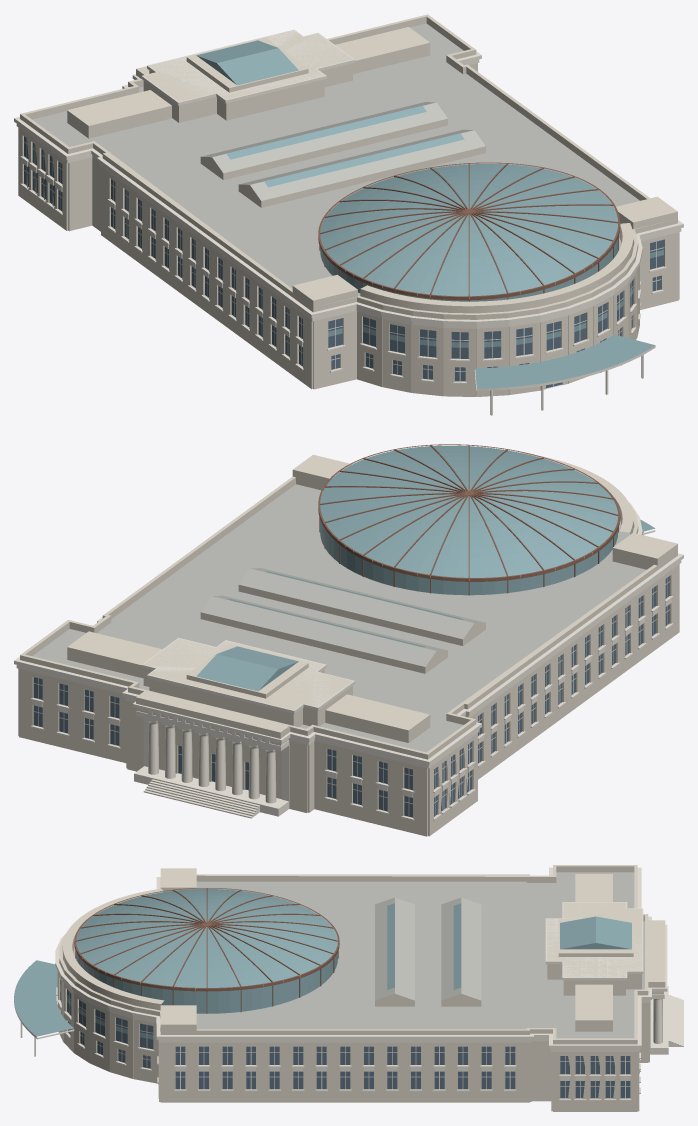
The model's file is auckland-war-memorial-museum.detail.glb.
3 renders of one model, top to bottom at view 1: azimuth 30°, elevation 25°; view 2: azimuth 150°, elevation 25°; view 3: azimuth 270°, elevation 25°, orthographic. The views are drawn at different scales.
Visible parts, largest first — view 1: Auckland War Memorial Museum; view 2: Auckland War Memorial Museum; view 3: Auckland War Memorial Museum.
Part boxes in pixels (bbox=[...]): Auckland War Memorial Museum: bbox=[14, 14, 683, 415]; Auckland War Memorial Museum: bbox=[14, 444, 683, 836]; Auckland War Memorial Museum: bbox=[14, 865, 683, 1111].
Bounding box in the file's own units: 88.8 × 23.21 × 141.
